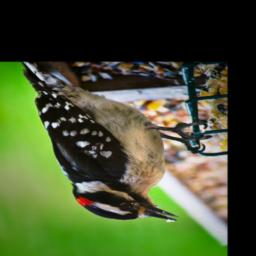Woodpecker: (21, 62, 212, 222)
